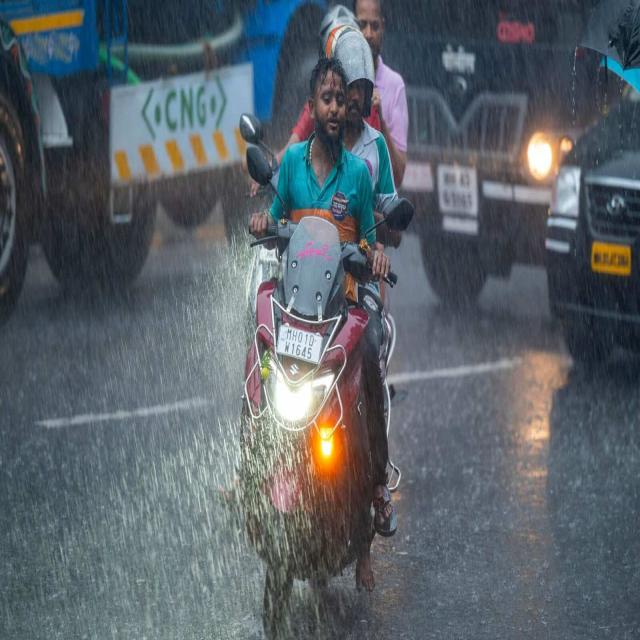motorcycle: (241, 27, 412, 636)
